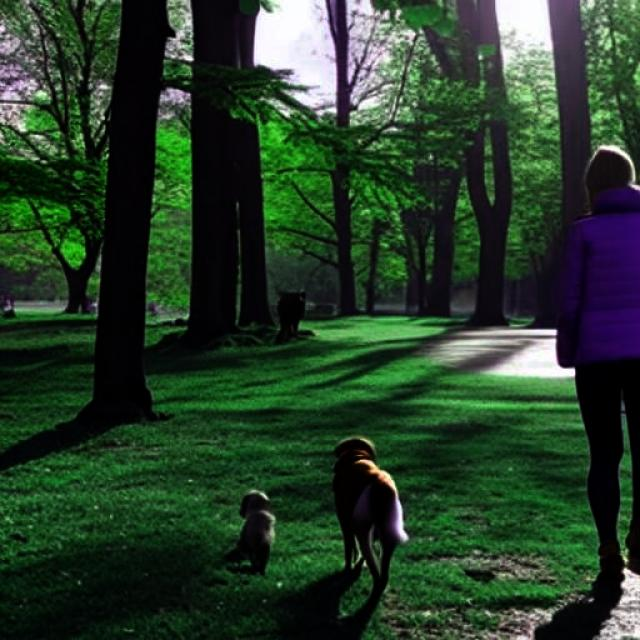Unleashed_Dog: (238, 348, 638, 576), (332, 366, 637, 594)
